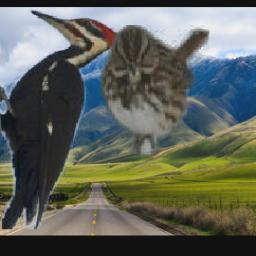Sparrow: (102, 26, 211, 155)
Woodpecker: (0, 8, 134, 230)
